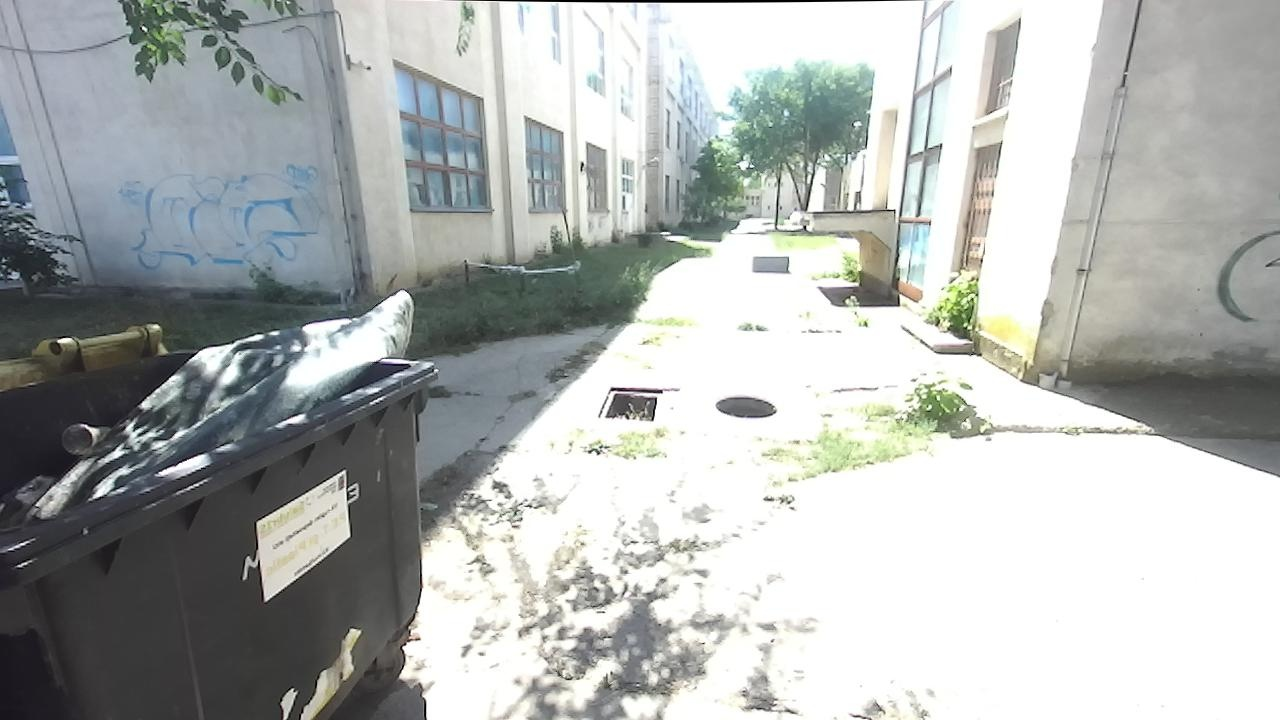drain: (602, 381, 666, 422), (715, 392, 776, 422)
